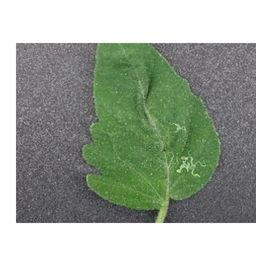liriomyza: (175, 153, 206, 178), (171, 122, 185, 134)
